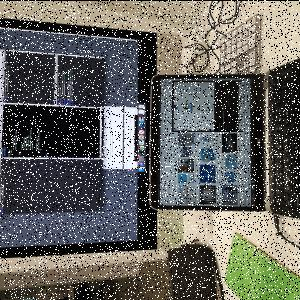Plastic-bottle: (175, 102, 215, 112)
